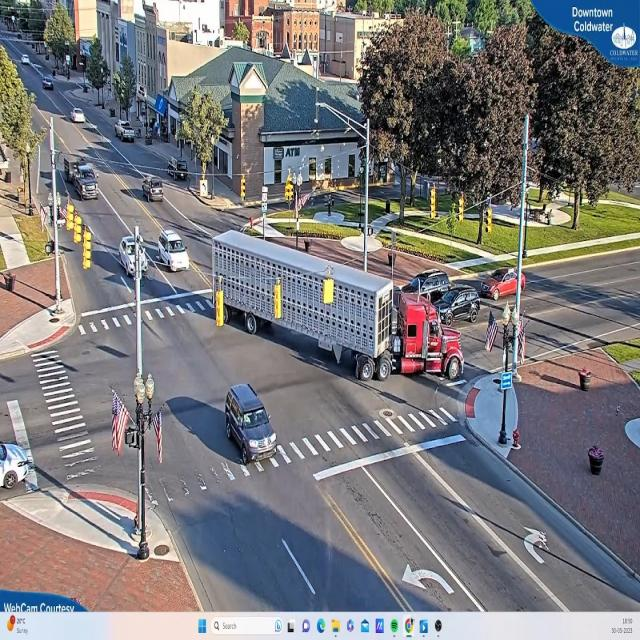car: (225, 384, 278, 466), (0, 444, 39, 492), (434, 288, 481, 324), (152, 230, 190, 273), (406, 272, 453, 305), (483, 271, 528, 303), (122, 236, 145, 275), (73, 168, 99, 199), (118, 120, 138, 143), (68, 108, 84, 121)
truck: (208, 226, 463, 384)
